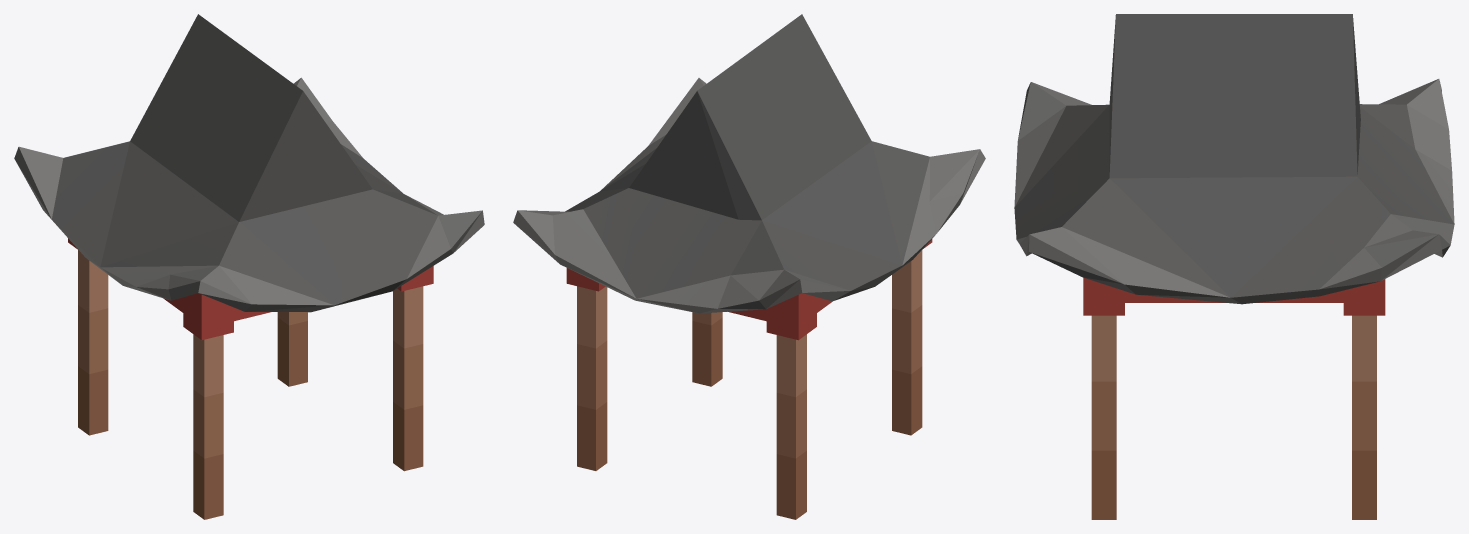
The model's file is building_7.fbx.
3 renders of one model, left to right at view 1: azimuth 30°, elevation 25°; view 2: azimuth 150°, elevation 25°; view 3: azimuth 270°, elevation 25°, orthographic. The views are drawn at different scales.
Visible parts, largest first — view 1: building_7; view 2: building_7; view 3: building_7.
Boxes of the visible parts, left/top/right/bottom form: building_7: left=14, top=14, right=484, bottom=519; building_7: left=513, top=14, right=985, bottom=519; building_7: left=1014, top=14, right=1454, bottom=519.
Bounding box in the file's own units: 386 × 480 × 430.
